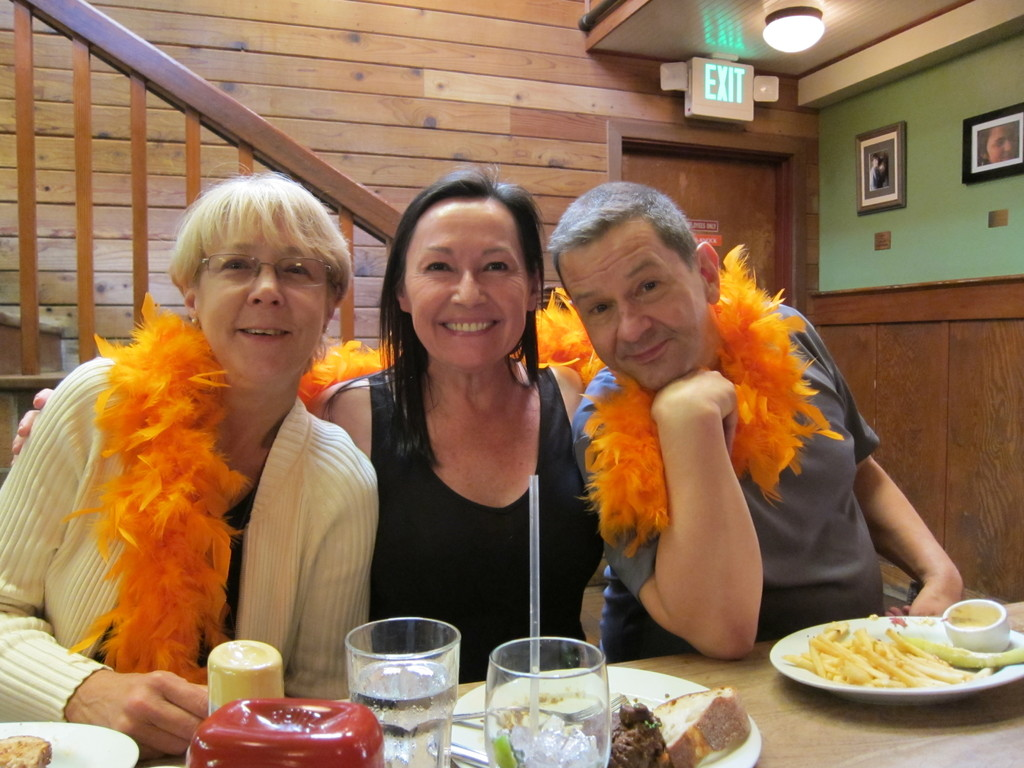French fries: (757, 629, 1002, 728)
